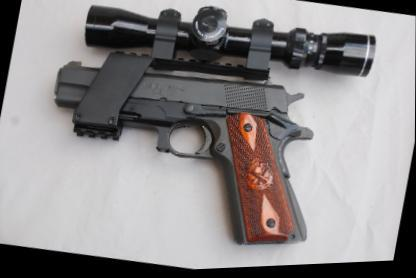pistol: (31, 40, 334, 265)
